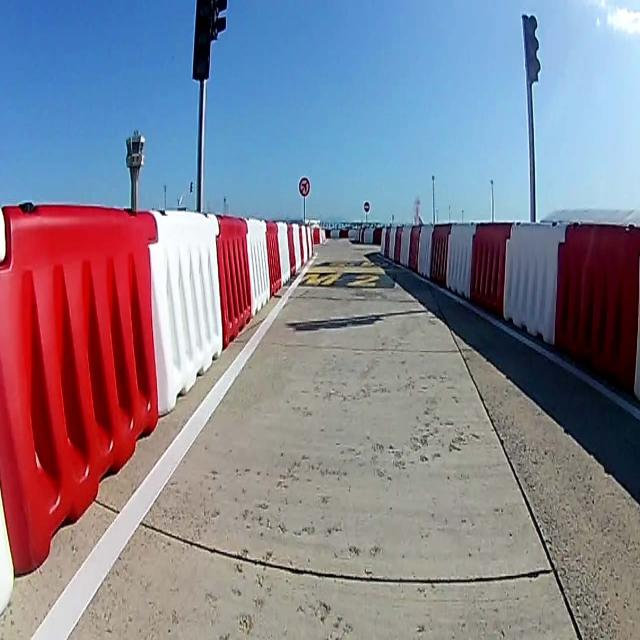girisyok: (364, 202, 370, 213)
soladonulmez: (300, 176, 310, 197)
